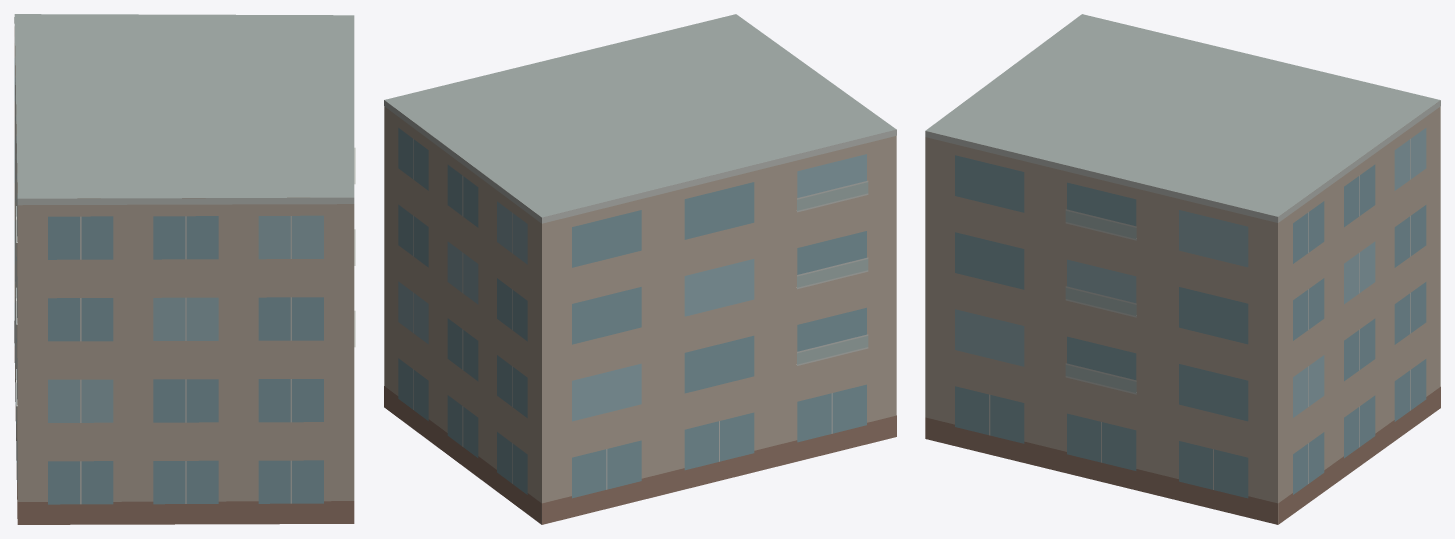
Rendered from survey-upis-32706628.glb.
3 renders of one model, left to right at view 1: azimuth 30°, elevation 25°; view 2: azimuth 150°, elevation 25°; view 3: azimuth 270°, elevation 25°, orthographic. The views are drawn at different scales.
Parts seen in each view (by area): view 1: survey-upis-32706628.tmp; view 2: survey-upis-32706628.tmp; view 3: survey-upis-32706628.tmp.
Boxes of the visible parts, bbox=[...] form: survey-upis-32706628.tmp: bbox=[14, 14, 355, 524]; survey-upis-32706628.tmp: bbox=[384, 14, 896, 524]; survey-upis-32706628.tmp: bbox=[925, 14, 1440, 524].
Bounding box in the file's own units: 17.25 × 12.2 × 18.52.
